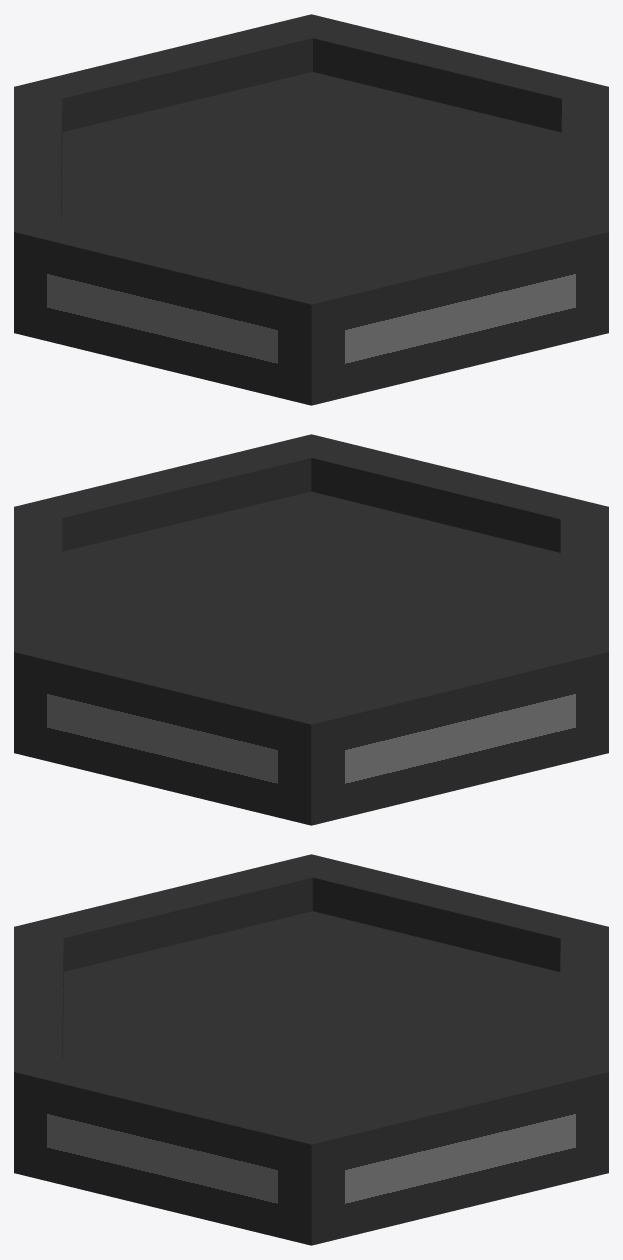
The model's file is hex-black.glb.
The picture shows the model from 3 angles, top to bottom: view 1: azimuth 30°, elevation 25°; view 2: azimuth 150°, elevation 25°; view 3: azimuth 270°, elevation 25°; orthographic projection.
Visible parts, largest first — view 1: cylinder; view 2: cylinder; view 3: cylinder.
Part boxes in pixels (box(x1,y1,x2,y2)): cylinder: box(14, 14, 608, 405); cylinder: box(14, 434, 608, 825); cylinder: box(14, 854, 608, 1245).
Size of the model in its own units: 1.15 by 0.1875 by 1.
1 material, 1 textured.
